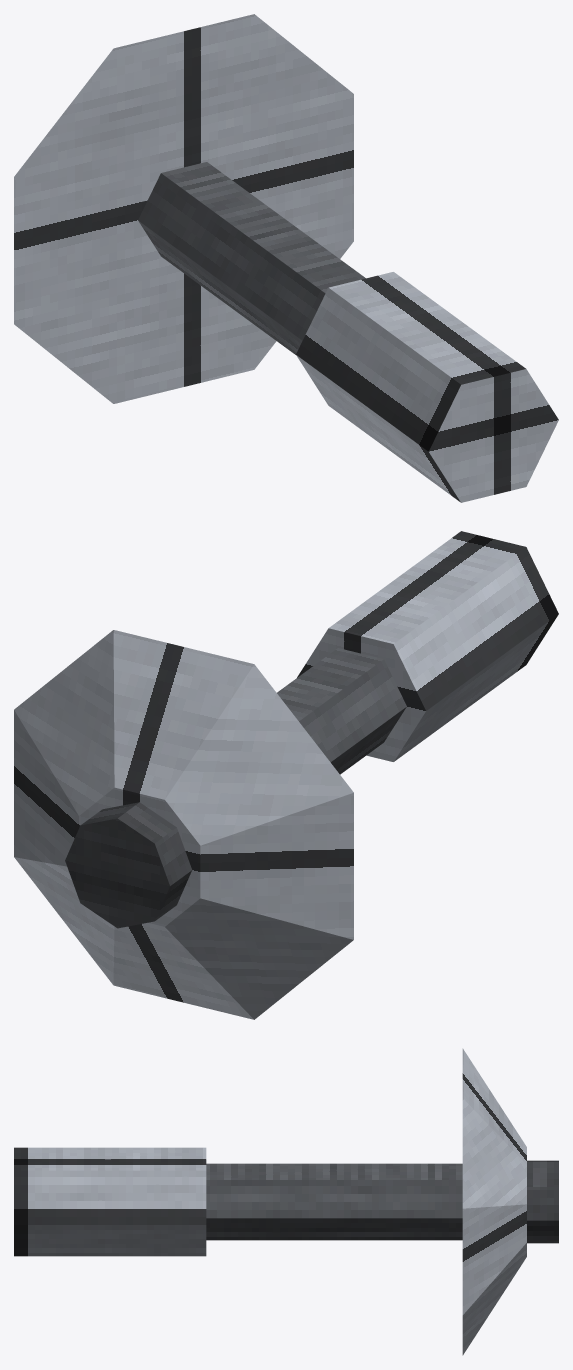
File: dish_port_kestrel.glb
3 renders of one model, top to bottom at view 1: azimuth 30°, elevation 25°; view 2: azimuth 150°, elevation 25°; view 3: azimuth 270°, elevation 25°, orthographic. The views are drawn at different scales.
Visible parts, largest first — view 1: dish, dish_sleeve, dish_mast; view 2: dish, dish_sleeve, dish_core, dish_mast; view 3: dish_sleeve, dish_mast, dish, dish_core.
Boxes of the visible parts, left/top/right/bottom form: dish: left=14, top=14, right=353, bottom=403; dish_sleeve: left=296, top=272, right=558, bottom=502; dish_mast: left=138, top=162, right=365, bottom=354; dish: left=14, top=630, right=353, bottom=1019; dish_sleeve: left=297, top=531, right=558, bottom=761; dish_core: left=65, top=802, right=191, bottom=928; dish_mast: left=277, top=648, right=406, bottom=774; dish_sleeve: left=14, top=1147, right=206, bottom=1256; dish_mast: left=206, top=1163, right=462, bottom=1240; dish: left=462, top=1048, right=526, bottom=1355; dish_core: left=527, top=1160, right=558, bottom=1243.
Size of the model in its own units: 8.87 by 8.87 by 17.
3 materials, 3 textured.
